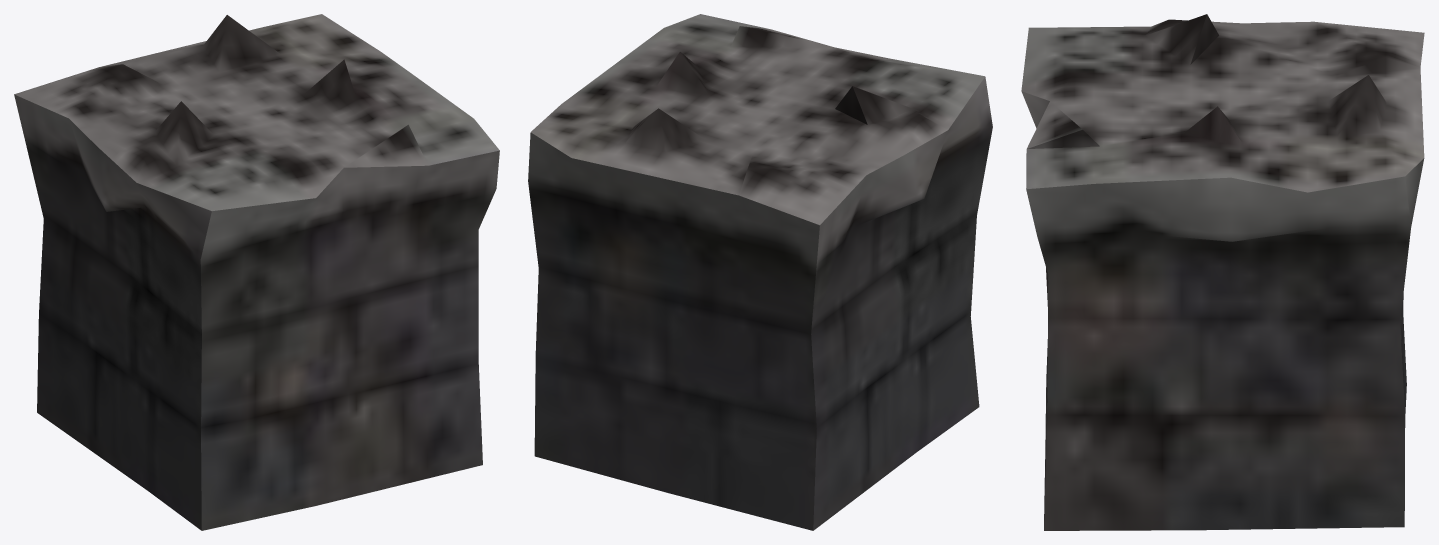
File: b_braises_mur_1_lod1.glb
3 renders of one model, left to right at view 1: azimuth 30°, elevation 25°; view 2: azimuth 150°, elevation 25°; view 3: azimuth 270°, elevation 25°, orthographic. The views are drawn at different scales.
Visible parts, largest first — view 1: geometry_0; view 2: geometry_0; view 3: geometry_0.
Part boxes in pixels (x1,y1,x2,y2): geometry_0: (14, 14, 499, 530); geometry_0: (528, 14, 992, 530); geometry_0: (1021, 14, 1424, 530).
Bounding box in the file's own units: 1 × 1.1 × 1.
1 material, 1 textured.
